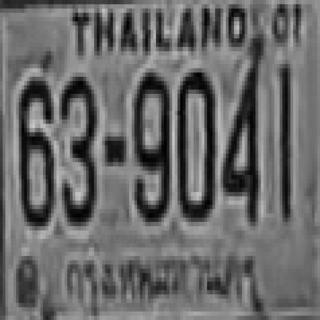N00: (175, 68, 212, 218)
N03: (59, 73, 94, 222)
N04: (221, 56, 261, 222)
N06: (16, 77, 51, 222)
N09: (132, 68, 169, 218)
P04: (60, 246, 262, 313)
